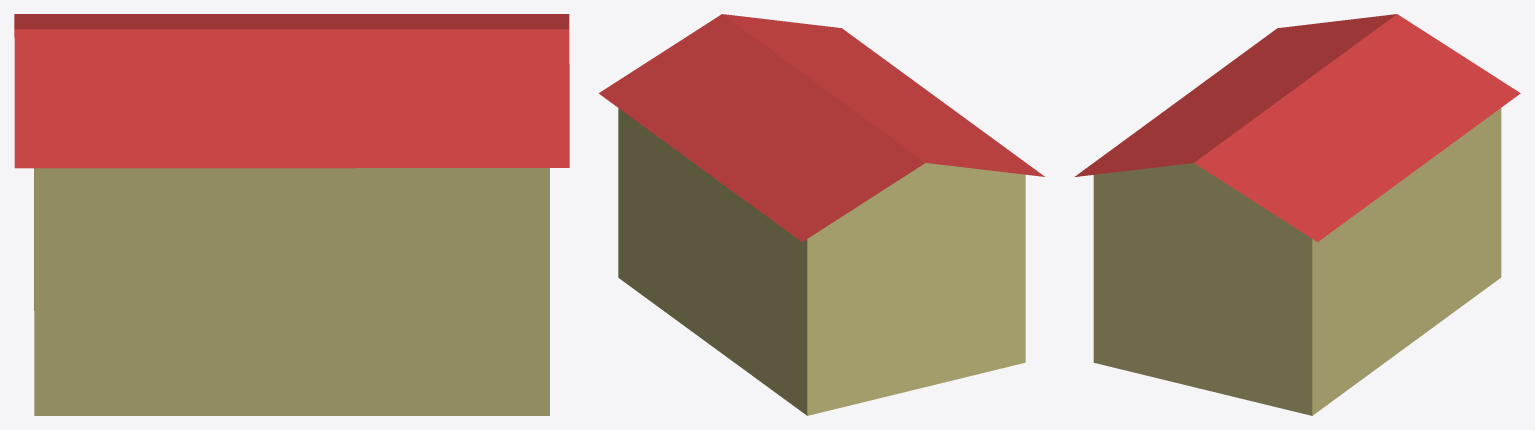
3 renders of one model, left to right at view 1: azimuth 30°, elevation 25°; view 2: azimuth 150°, elevation 25°; view 3: azimuth 270°, elevation 25°, orthographic. The views are drawn at different scales.
Bounding box in the file's own units: 17.07 × 15.48 × 8.84.
